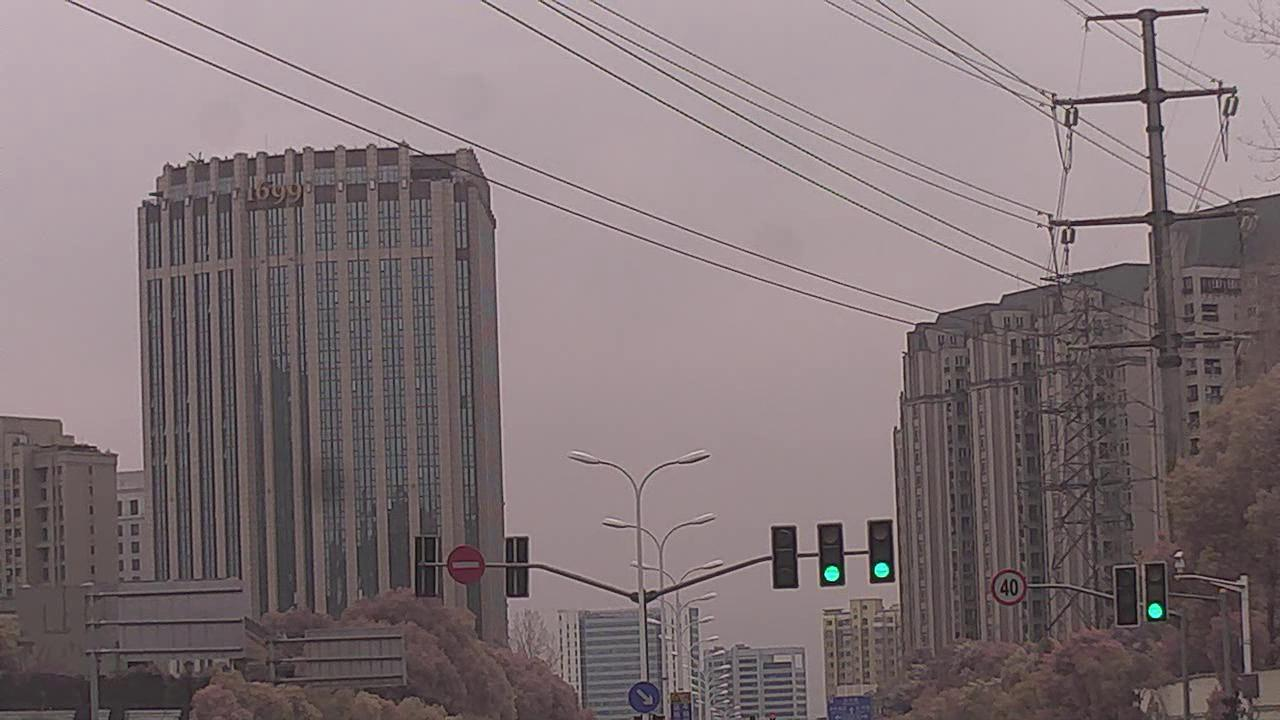traffic_light: (815, 522, 847, 589), (771, 526, 800, 591), (867, 520, 895, 587), (1111, 564, 1140, 628), (1143, 563, 1168, 624)
